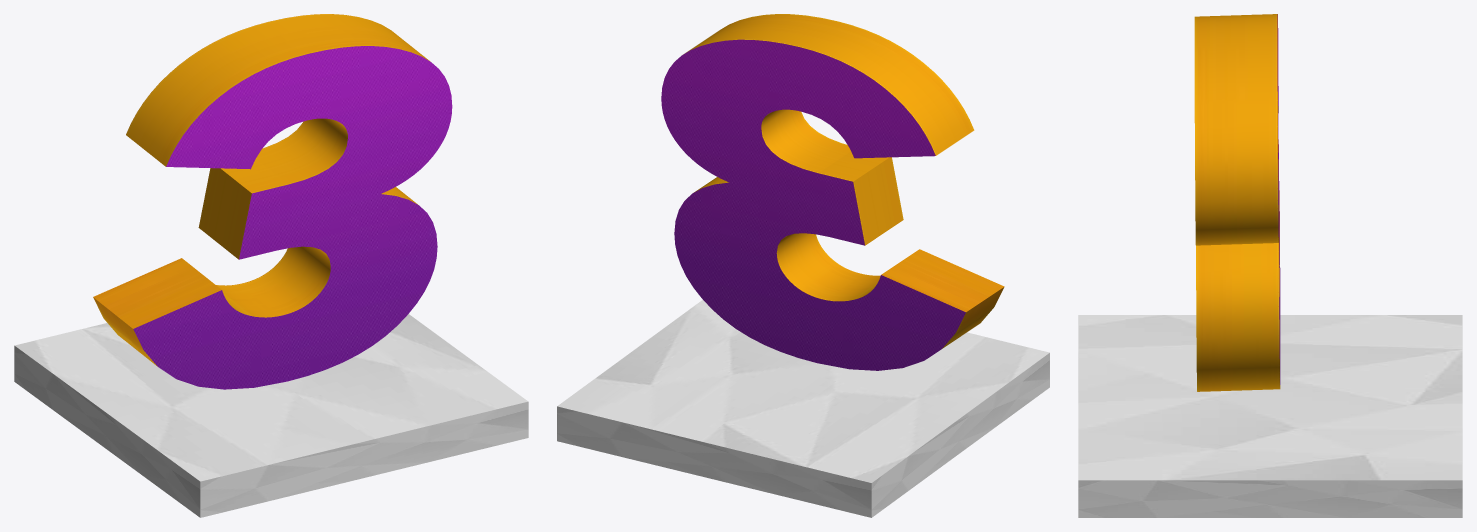
Rendered from TRES.DAE.
The picture shows the model from 3 angles, left to right: view 1: azimuth 30°, elevation 25°; view 2: azimuth 150°, elevation 25°; view 3: azimuth 270°, elevation 25°; orthographic projection. The views are drawn at different scales.
Parts seen in each view (by area): view 1: Text001, Box001; view 2: Text001, Box001; view 3: Box001, Text001.
Boxes of the visible parts, x1,y1,x2,y2 form: Text001: [93, 14, 452, 389]; Box001: [14, 314, 528, 517]; Text001: [661, 14, 1004, 370]; Box001: [557, 300, 1049, 517]; Box001: [1078, 315, 1462, 517]; Text001: [1194, 14, 1280, 391].
Bounding box in the file's own units: 144 × 137 × 156.
Materials: 3 (3 with a texture image).
